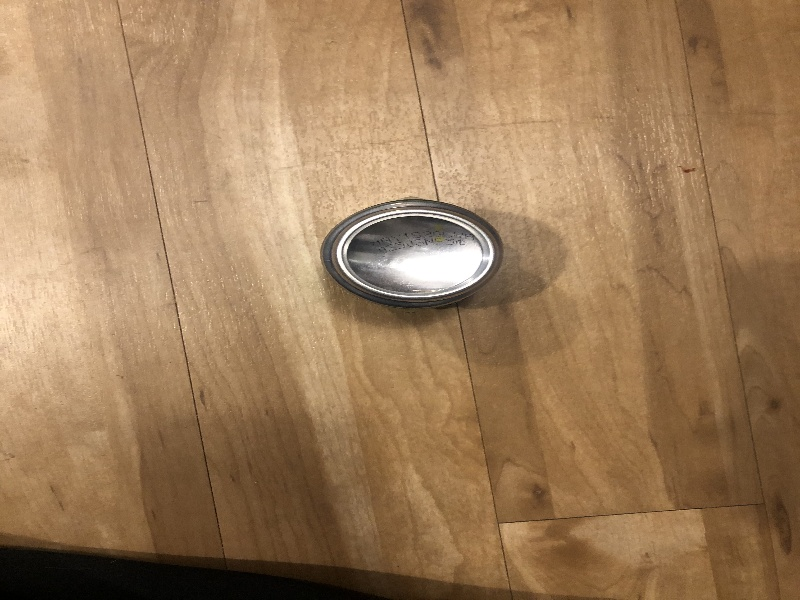metal: (313, 193, 514, 315)
